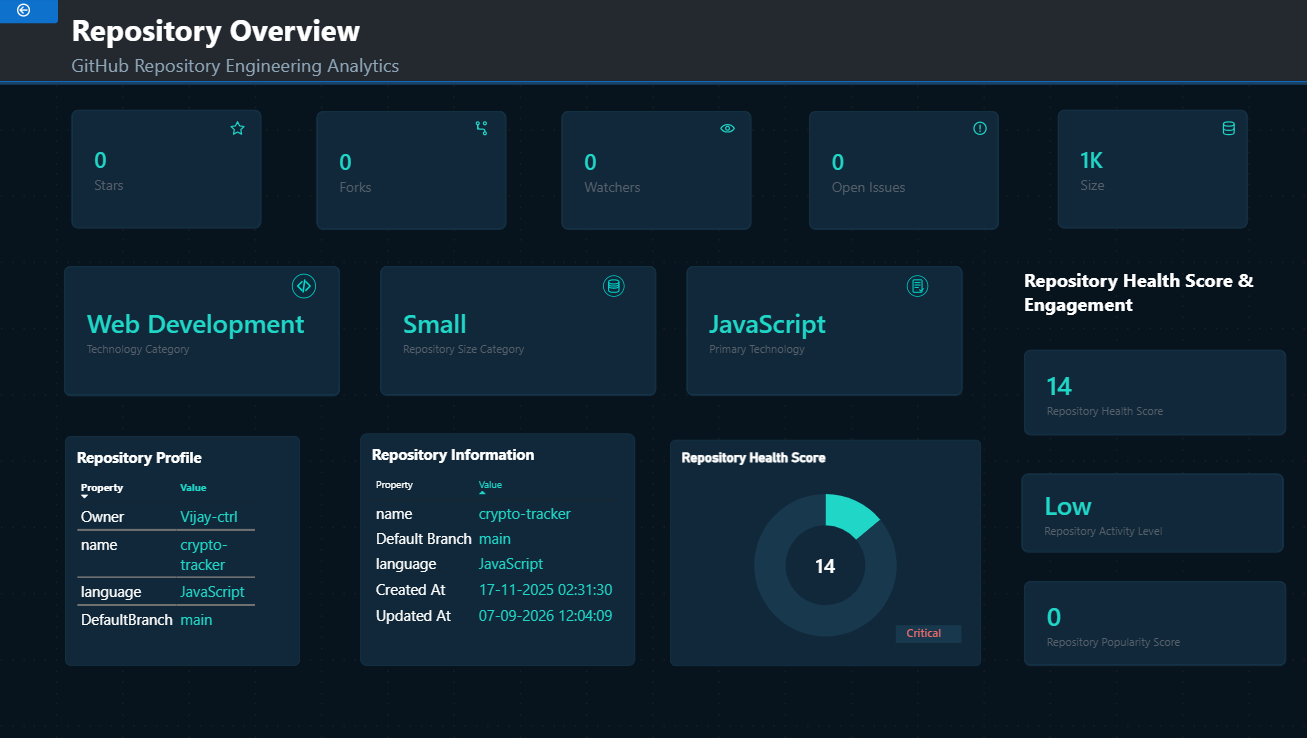

What the dashboard file says about the page in this screenshot:
{"tool":"powerbi","page":{"name":"Repository Overview","canvas":[1920,1080],"ordinal":0},"visuals":[{"type":"shape","box":[0,0,1920,128],"z":0},{"type":"cardVisual","fields":{"Data":["Sum(DimRepository.Stars)"]},"box":[119.2,165.5,275.3,172.1],"z":1000},{"type":"cardVisual","fields":{"Data":["Sum(DimRepository.Forks)"]},"box":[474.6,166.6,275,172],"z":2000},{"type":"cardVisual","fields":{"Data":["Sum(DimRepository.Watchers)"]},"box":[829.6,166.6,275,172],"z":3000},{"type":"cardVisual","fields":{"Data":["Sum(DimRepository.OpenIssues)"]},"box":[1188.2,166.6,275,172],"z":4000},{"type":"cardVisual","fields":{"Data":["Sum(DimRepository.size)"]},"box":[1549.2,165.5,275,172],"z":5000},{"type":"cardVisual","fields":{"Data":["DimDate.Repository Health Score"]},"box":[1499.6,513.1,380,124],"z":6000},{"type":"cardVisual","fields":{"Data":["DimDate.Repository Activity Level"]},"box":[1496.3,691.9,380.4,114.1],"z":7000},{"type":"cardVisual","fields":{"Data":["DimDate.Repository Popularity Score"]},"box":[1499.6,847.4,380.4,123.2],"z":8000},{"type":"cardVisual","fields":{"Data":["DimDate.Repository Size Category"]},"box":[566.1,390.6,400,188],"z":9000},{"type":"cardVisual","fields":{"Data":["DimDate.Primary Technology"]},"box":[1010.7,391.2,400,188],"z":10000},{"type":"cardVisual","fields":{"Data":["DimDate.Technology Category"]},"box":[109.2,390.6,400,188.7],"z":11000},{"type":"textbox","box":[1734,45,186,172],"z":12000},{"type":"textbox","box":[119.5,0,447.4,97.8],"z":13000},{"type":"tableEx","title":"Repository Information","fields":{"Values":["RepositoryInformation.Property","RepositoryInformation.Value"]},"box":[538,634,398.5,336.9],"z":14000},{"type":"actionButton","box":[0,0,100,40],"z":15000},{"type":"tableEx","title":"Repository Profile","fields":{"Values":["RepositoryProfile.Property","RepositoryProfile.Value"]},"box":[110.5,637.6,340,332.5],"z":16000},{"type":"donutChart","title":"Repository Health Score ","fields":{"Y":["DimDate.Repository Health Score","DimDate.Health Score Remaining"]},"box":[986.5,642.2,450.2,327.7],"z":17000},{"type":"cardVisual","fields":{"Data":["DimDate.Health Status"]},"box":[1298.7,896.6,125.8,56.3],"z":18000},{"type":"textbox","box":[1499.8,393.1,380.4,94.2],"z":19000},{"type":"image","box":[347.8,179.3,25,25],"z":20000},{"type":"image","box":[701,179.3,25,25],"z":21000},{"type":"image","box":[1057.8,179.3,25,25],"z":22000},{"type":"image","box":[1423.7,179.3,25,25],"z":23000},{"type":"image","box":[1784.2,179.3,25,25],"z":24000},{"type":"shape","box":[0,115.9,1920,16.6],"z":25000},{"type":"image","box":[438.3,400.3,36.2,39.8],"z":26000},{"type":"image","box":[889.4,400.3,32,40],"z":27000},{"type":"image","box":[1329.5,400.3,32,40],"z":28000},{"type":"textbox","box":[119.5,81.5,547,83.3],"z":29000}]}

Visuals, with their boxes on the page's 1920x1080 design canvas (x1, y1, x2, y2). These are canvas units, not pixel positions in the 1307x738 screenshot, which may show the page scaled, cropped or inside an application window:
shape: bbox(0, 0, 1920, 128)
cardVisual - Sum(DimRepository.Stars): bbox(119, 166, 394, 338)
cardVisual - Sum(DimRepository.Forks): bbox(475, 167, 750, 339)
cardVisual - Sum(DimRepository.Watchers): bbox(830, 167, 1105, 339)
cardVisual - Sum(DimRepository.OpenIssues): bbox(1188, 167, 1463, 339)
cardVisual - Sum(DimRepository.size): bbox(1549, 166, 1824, 338)
cardVisual - DimDate.Repository Health Score: bbox(1500, 513, 1880, 637)
cardVisual - DimDate.Repository Activity Level: bbox(1496, 692, 1877, 806)
cardVisual - DimDate.Repository Popularity Score: bbox(1500, 847, 1880, 971)
cardVisual - DimDate.Repository Size Category: bbox(566, 391, 966, 579)
cardVisual - DimDate.Primary Technology: bbox(1011, 391, 1411, 579)
cardVisual - DimDate.Technology Category: bbox(109, 391, 509, 579)
textbox: bbox(1734, 45, 1920, 217)
textbox: bbox(120, 0, 567, 98)
"Repository Information" tableEx: bbox(538, 634, 936, 971)
actionButton: bbox(0, 0, 100, 40)
"Repository Profile" tableEx: bbox(110, 638, 450, 970)
"Repository Health Score " donutChart: bbox(986, 642, 1437, 970)
cardVisual - DimDate.Health Status: bbox(1299, 897, 1424, 953)
textbox: bbox(1500, 393, 1880, 487)
image: bbox(348, 179, 373, 204)
image: bbox(701, 179, 726, 204)
image: bbox(1058, 179, 1083, 204)
image: bbox(1424, 179, 1449, 204)
image: bbox(1784, 179, 1809, 204)
shape: bbox(0, 116, 1920, 132)
image: bbox(438, 400, 474, 440)
image: bbox(889, 400, 921, 440)
image: bbox(1330, 400, 1362, 440)
textbox: bbox(120, 82, 666, 165)
